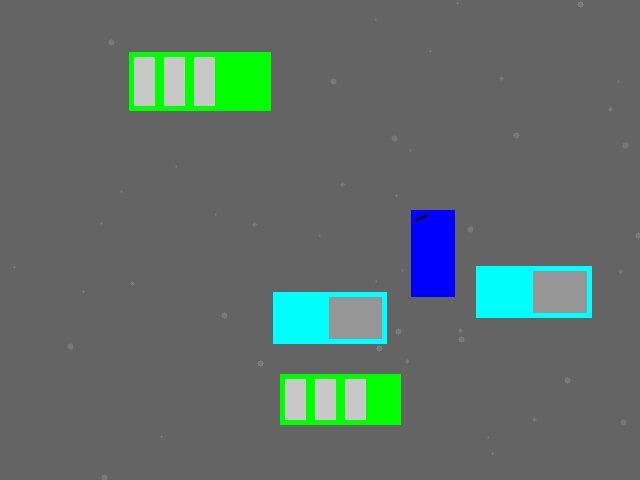bus: (129, 52, 270, 110), (280, 374, 400, 424)
motorcycle: (411, 210, 454, 296)
truck: (476, 266, 591, 317), (273, 292, 386, 343)
